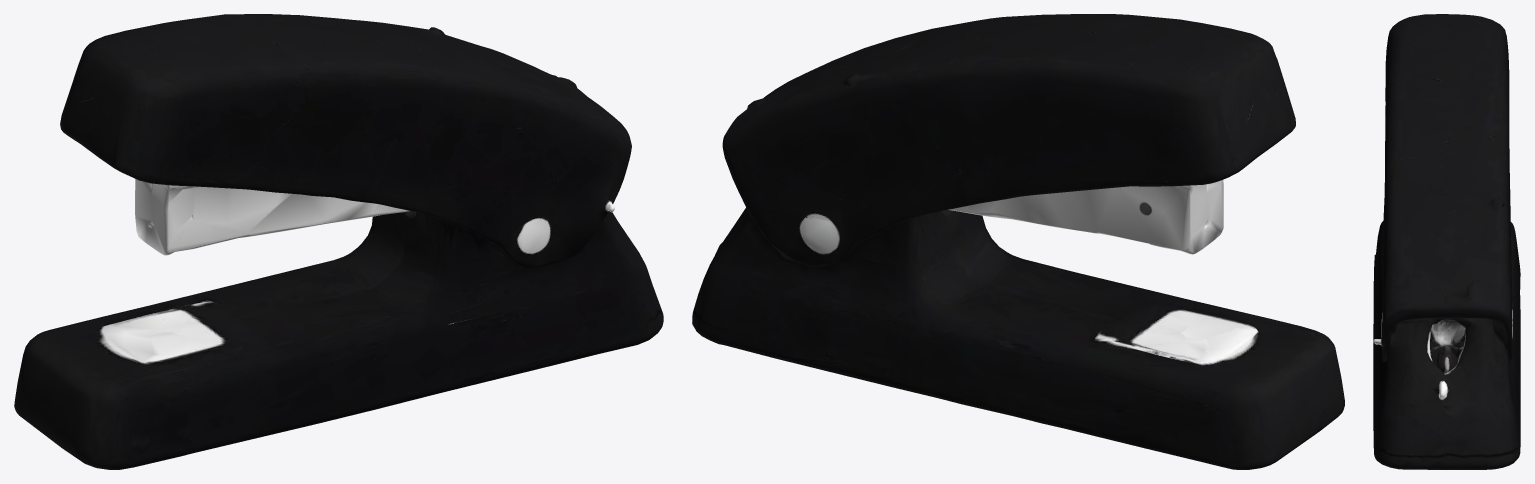
Rendered from stapler.glb.
3 renders of one model, left to right at view 1: azimuth 30°, elevation 25°; view 2: azimuth 150°, elevation 25°; view 3: azimuth 270°, elevation 25°, orthographic. The views are drawn at different scales.
Size of the model in its own units: 2.01 by 1.23 by 0.5913.
1 material, 1 textured.
